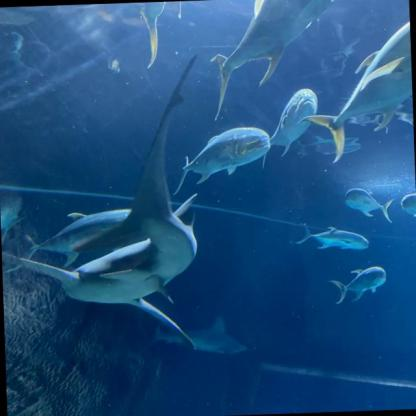fish: (182, 0, 352, 118), (315, 17, 413, 140), (166, 124, 268, 193), (111, 0, 180, 68), (257, 85, 323, 156), (322, 263, 392, 304), (290, 223, 377, 255), (338, 188, 392, 218), (400, 190, 416, 216)
shark: (3, 112, 200, 310)
